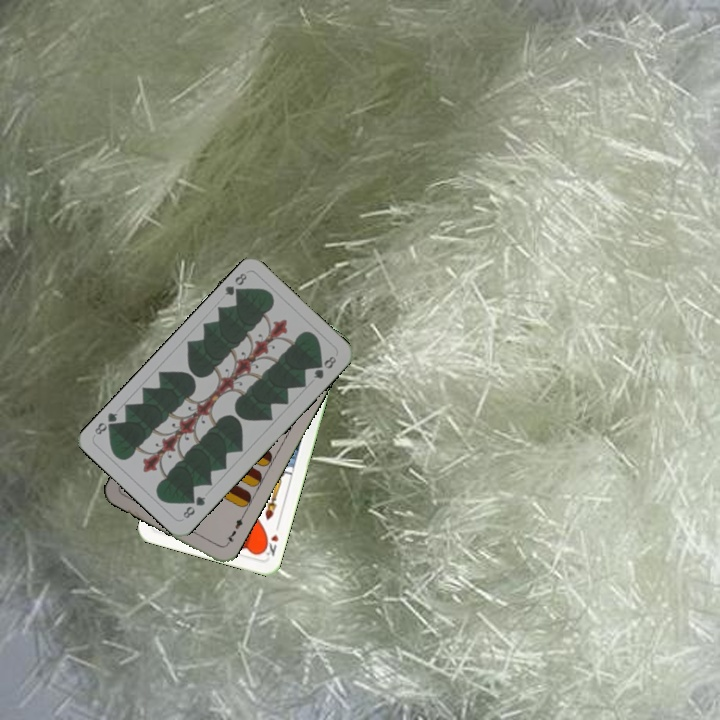E7: (221, 511, 247, 549)
G8: (220, 269, 250, 300), (179, 492, 208, 521)
HK: (259, 530, 281, 559)
